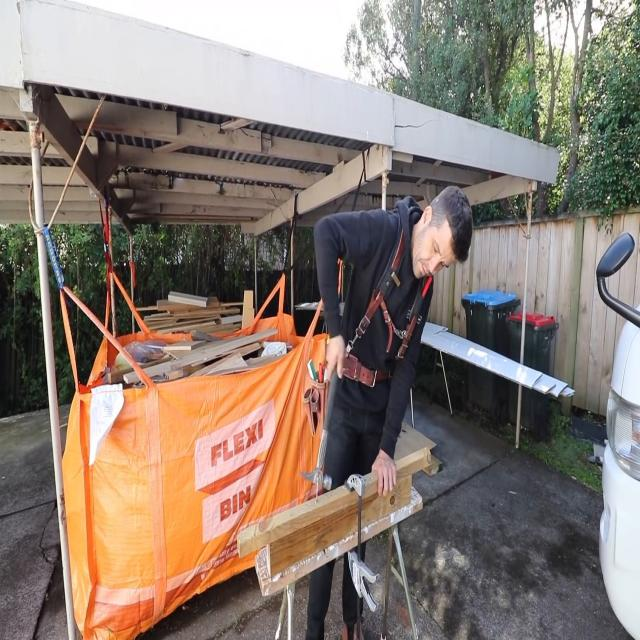hammer: (300, 362, 342, 494)
